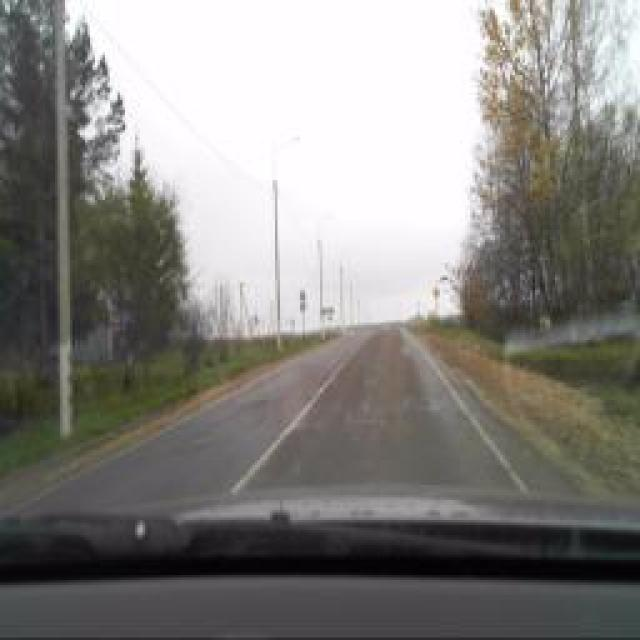sign: (431, 285, 441, 303)
